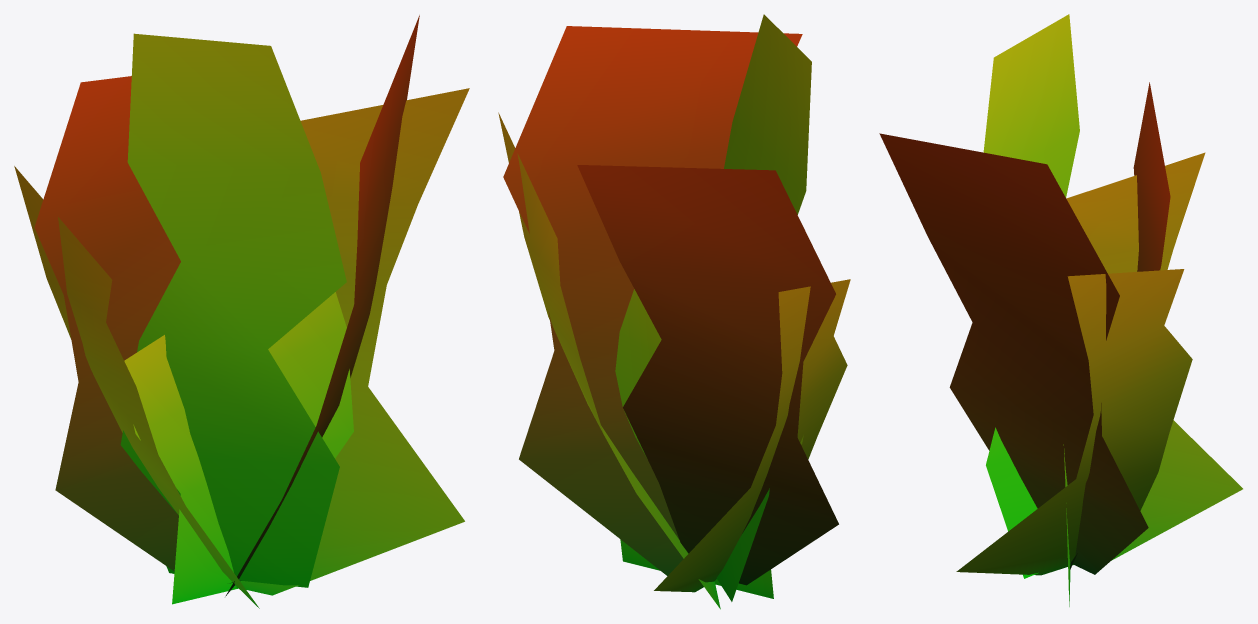
The model's file is Var8Hi38.fbx.
3 views of the same model, side by side, from view 1: azimuth 30°, elevation 25°; view 2: azimuth 150°, elevation 25°; view 3: azimuth 270°, elevation 25° (orthographic). The views are drawn at different scales.
Visible parts, largest first — view 1: bend1; view 2: bend1; view 3: bend1.
Boxes of the visible parts, left/top/right/bottom form: bend1: left=14, top=15, right=469, bottom=608; bend1: left=498, top=14, right=850, bottom=609; bend1: left=879, top=14, right=1242, bottom=606.
Bounding box in the file's own units: 1.27 × 1.77 × 1.15.
